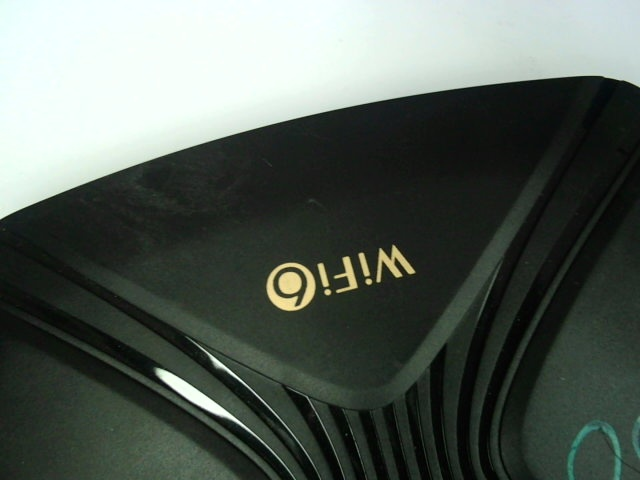AK_ZTEWIFI6Black: (234, 228, 417, 318)
